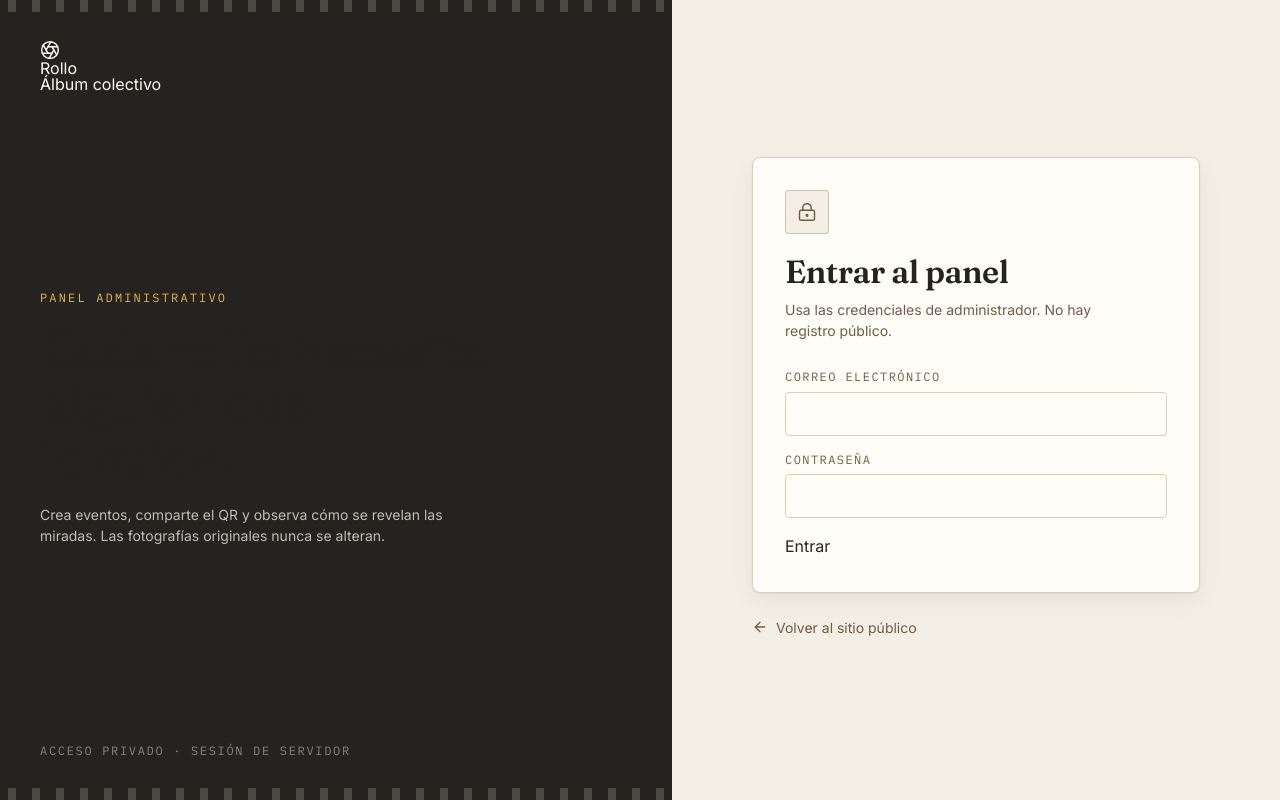
Scenario: AdminLoginPage › valida los campos antes de enviar credenciales
Click the button "Entrar".
click(808, 547)  # box [785, 534, 830, 560]
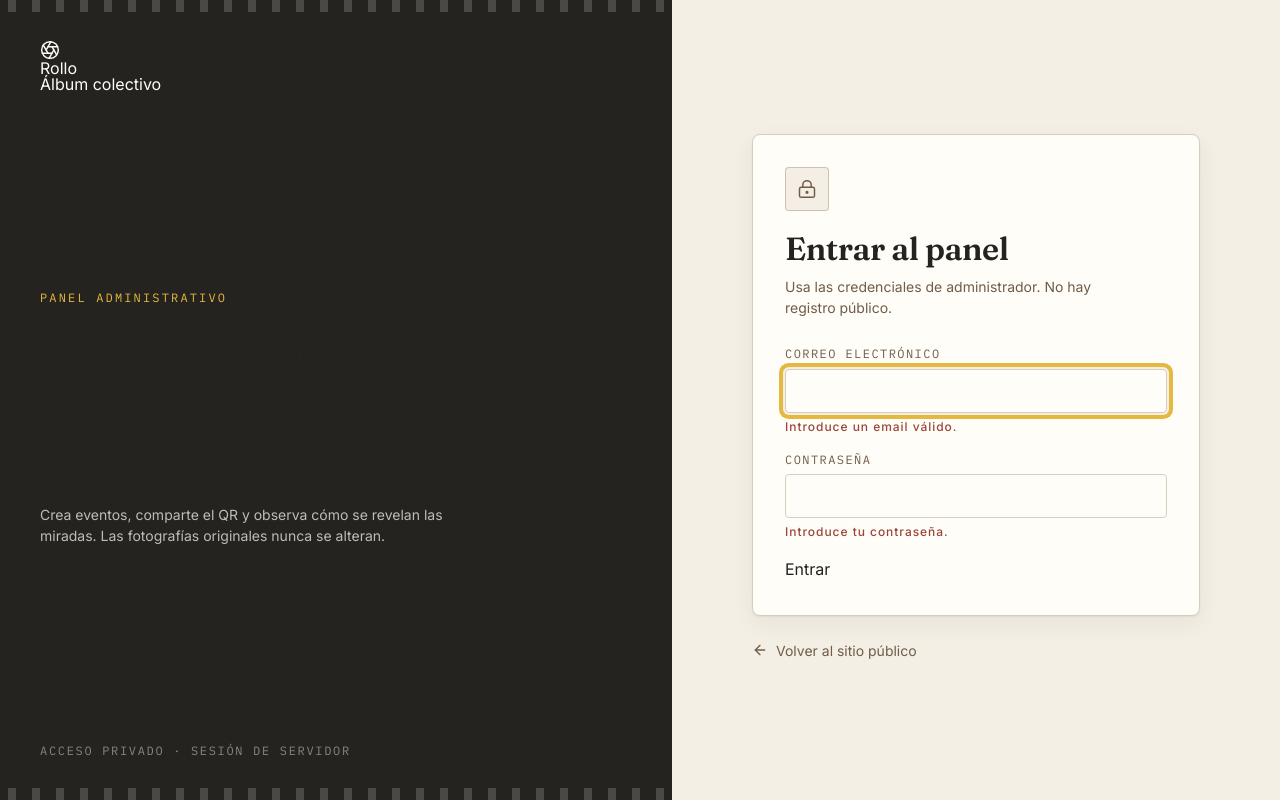
expect the text "Introduce tu contraseña." is shown: met, box [785, 524, 949, 539]
expect the text "Introduce un email válido." is shown: met, box [785, 419, 957, 434]
